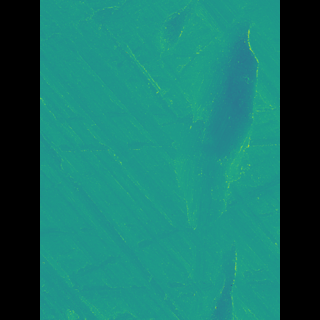Loch: (159, 4, 240, 315)
